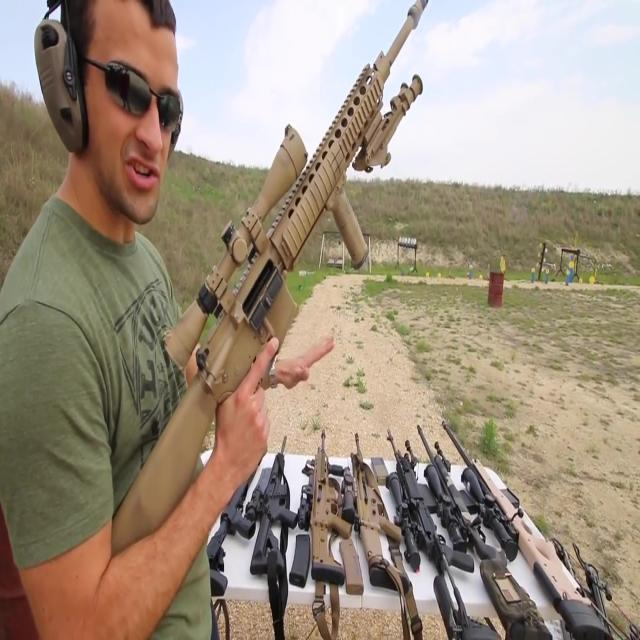Weapon: (84, 0, 437, 588), (149, 334, 607, 640)
